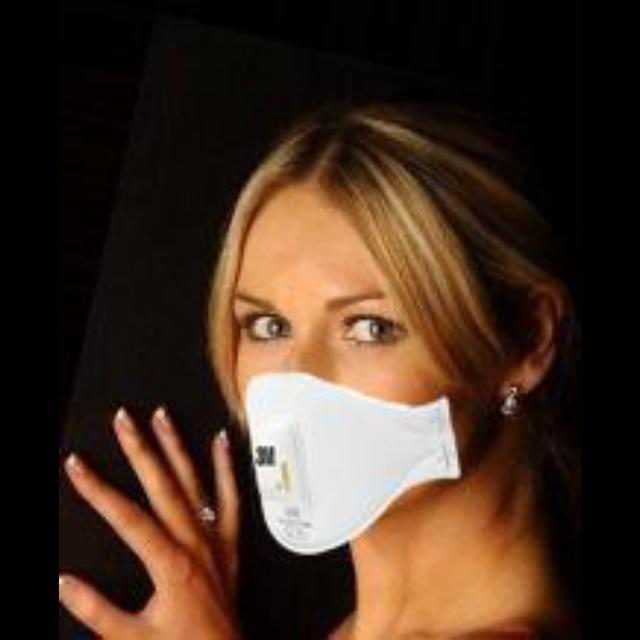suspicion: (237, 150, 515, 528)
